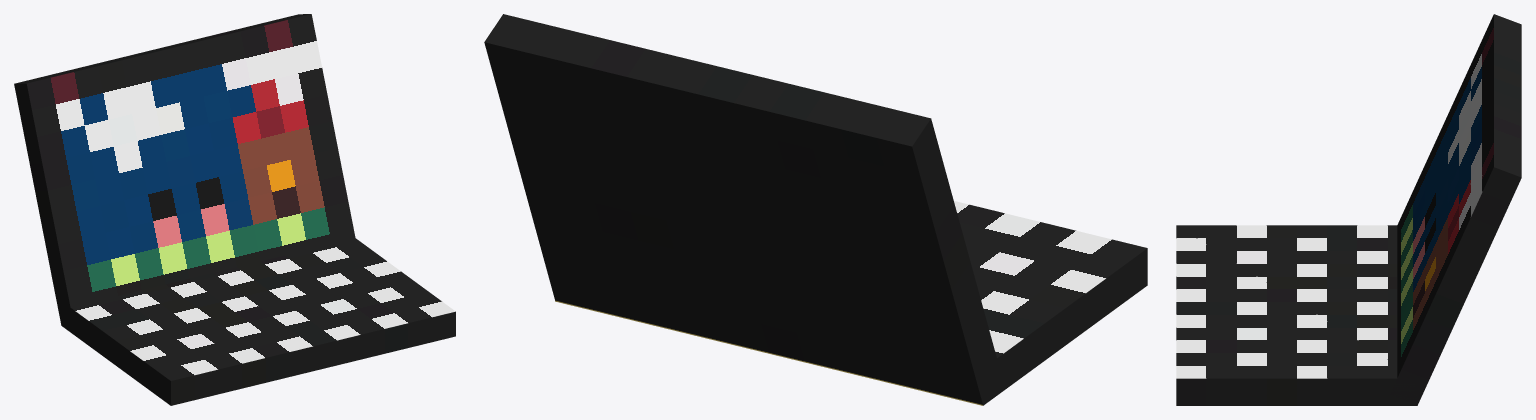
Rendered from mascot.glb.
The picture shows the model from 3 angles, left to right: view 1: azimuth 30°, elevation 25°; view 2: azimuth 150°, elevation 25°; view 3: azimuth 270°, elevation 25°; orthographic projection. The views are drawn at different scales.
Visible parts, largest first — view 1: Object_2; view 2: Object_2; view 3: Object_2.
Part boxes in pixels (x1,y1,x2,y2): Object_2: (14, 14, 455, 405); Object_2: (484, 14, 1147, 405); Object_2: (1176, 14, 1521, 405).
Bounding box in the file's own units: 0.75 × 0.5453 × 0.7153.
1 material, 1 textured.
